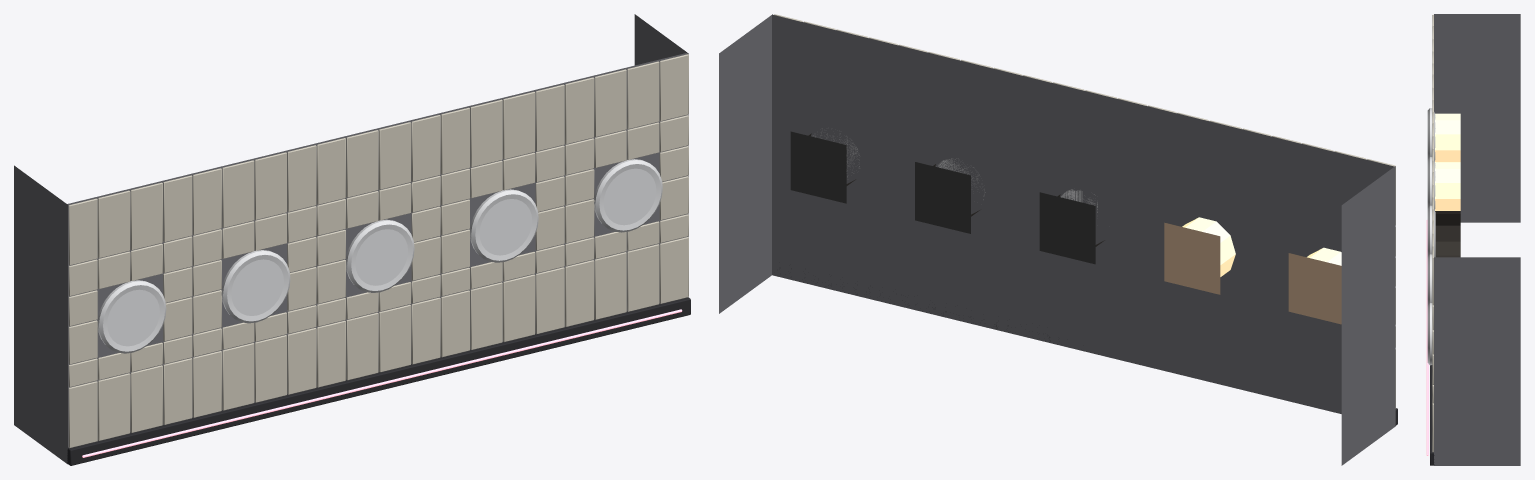
The model's file is retro_upper_8b.glb.
3 renders of one model, left to right at view 1: azimuth 30°, elevation 25°; view 2: azimuth 150°, elevation 25°; view 3: azimuth 270°, elevation 25°, orthographic. The views are drawn at different scales.
Visible parts, largest first — view 1: retro_upper_8b; view 2: retro_upper_8b; view 3: retro_upper_8b.
Part boxes in pixels (x1,y1,x2,y2): retro_upper_8b: (14,14,690,465); retro_upper_8b: (719,14,1397,465); retro_upper_8b: (1426,14,1520,465).
Bounding box in the file's own units: 8 × 3.2 × 1.31.
